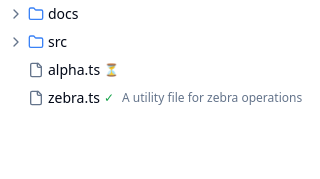
Test: FileTree › Expand/collapse interactions › clicking a directory expands it to show children
Click the "src" directory to expand it
Click the text "src": (57, 42) [48,32,67,52]
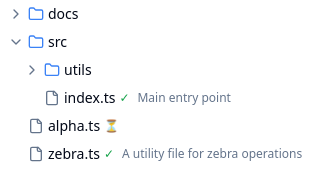
Now the text "index.ts" is shown, box [64,88,115,108]
Now the text "utils" is shown, box [64,60,92,80]
